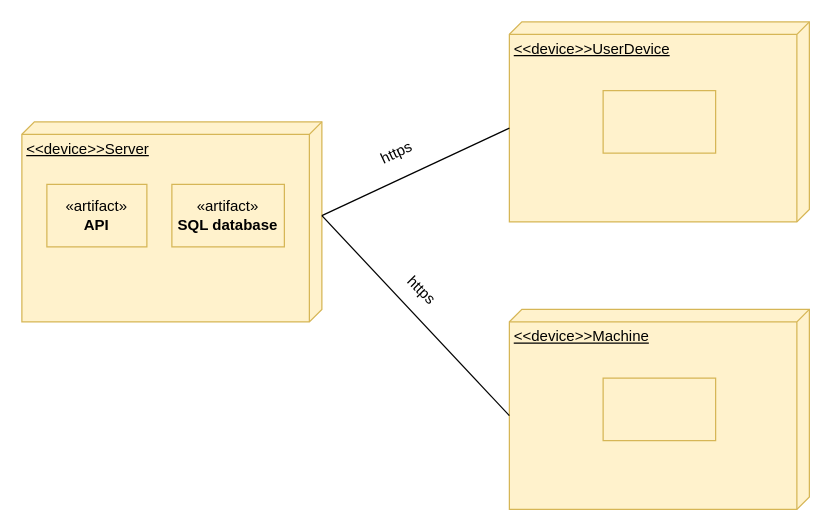
This 831x531 diagram has some shape labels left out. The shapes that lost their labels are listed below. From the top down, each one's centre as x and y in pixels, then its label:
At (659,121): "«artifact» App".
At (659,409): "«artifact» ESP32".
